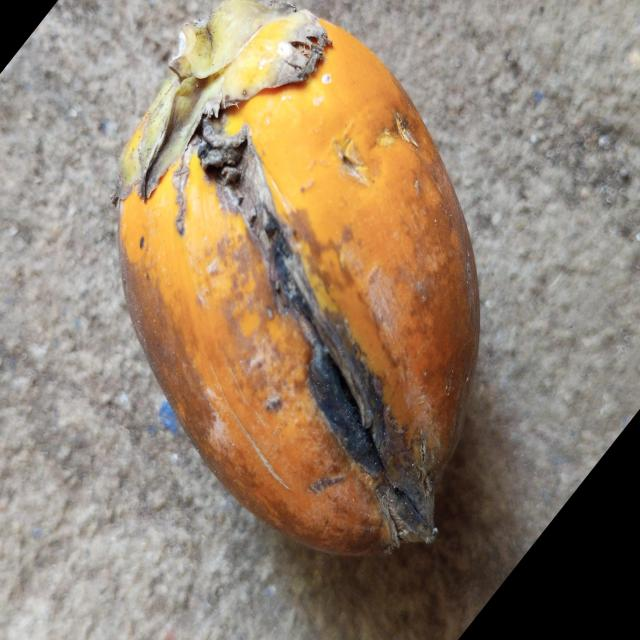damaged: (116, 0, 482, 559)
